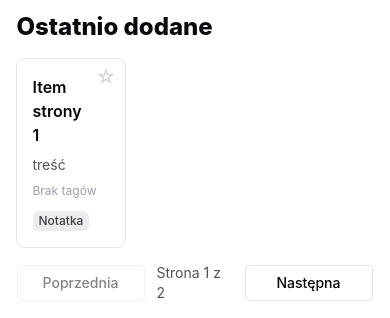
Test: RecentPage › pages through the list without carrying any filter
Expected: the heading "Item strony 1" is shown, [32,77,82,145]
Click the button "Następna" at (308,283), box [244,265,372,301]
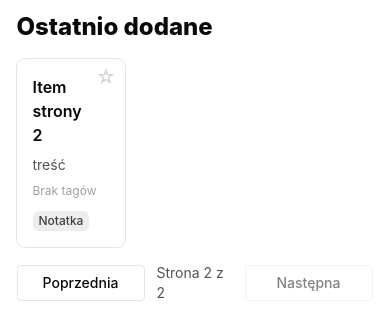
Expected: the heading "Item strony 2" is shown, [32,77,82,145]
